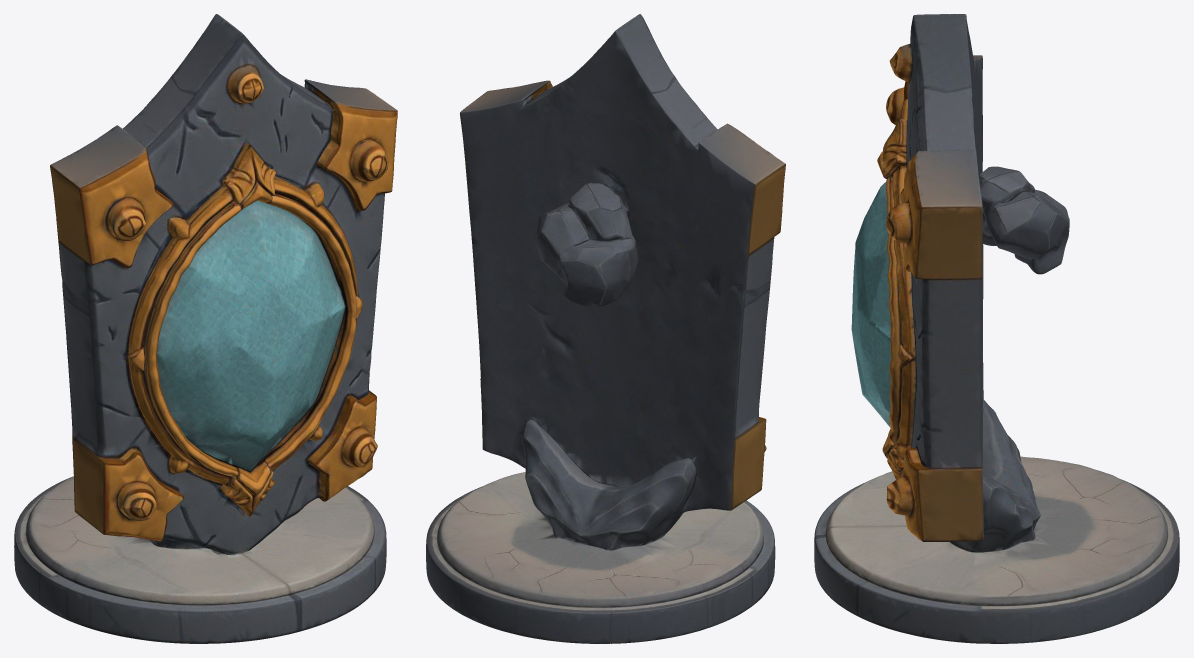
The model's file is arenaRelic.0b04ec2f.glb.
3 views of the same model, side by side, from view 1: azimuth 30°, elevation 25°; view 2: azimuth 150°, elevation 25°; view 3: azimuth 270°, elevation 25° (orthographic). The views are drawn at different scales.
Visible parts, largest first — view 1: mesh_node; view 2: mesh_node; view 3: mesh_node.
Part boxes in pixels (x1=…): mesh_node: x1=14, y1=14, x2=397, y2=643; mesh_node: x1=426, y1=14, x2=785, y2=643; mesh_node: x1=814, y1=14, x2=1179, y2=643.
Size of the model in its own units: 1.13 by 1.9 by 1.13.
1 material, 1 textured.
